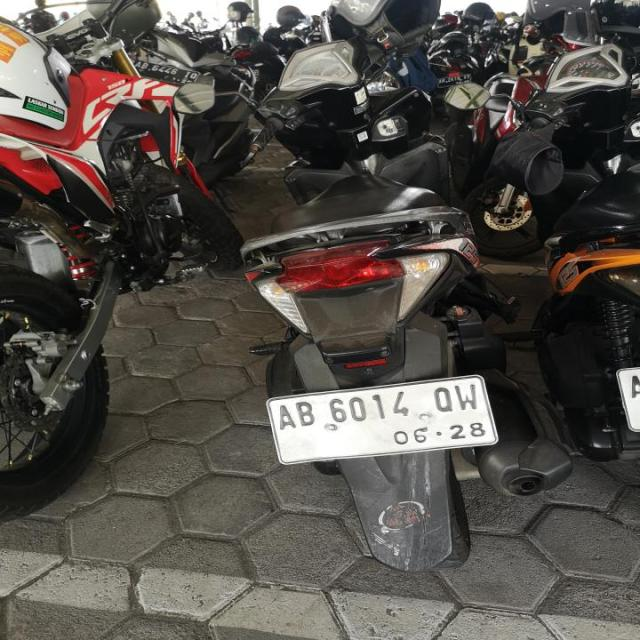License Plate: (261, 372, 504, 467)
